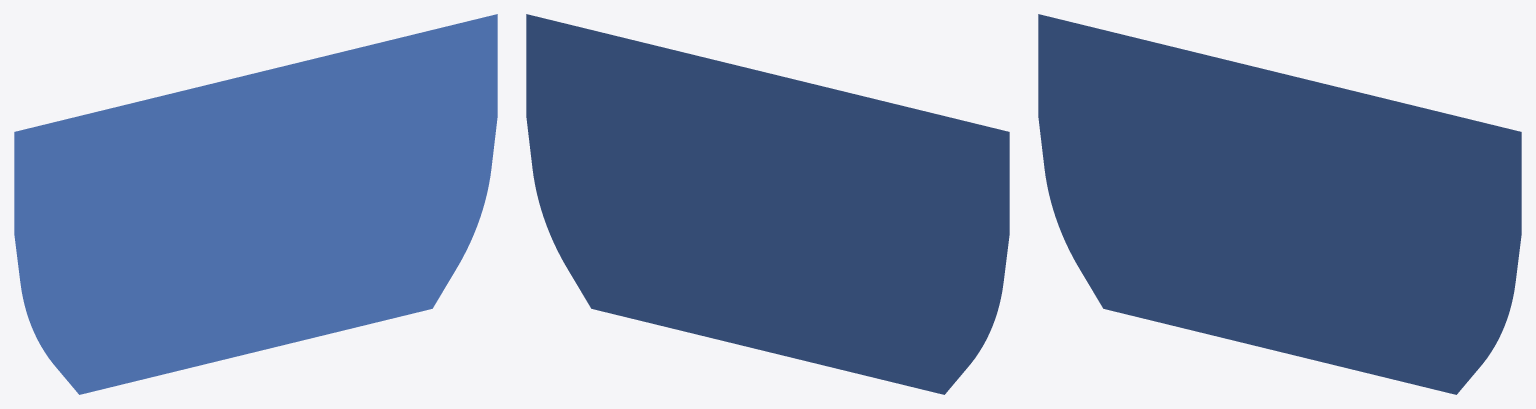
File: original-11.obj
3 views of the same model, side by side, from view 1: azimuth 30°, elevation 25°; view 2: azimuth 150°, elevation 25°; view 3: azimuth 330°, elevation 25° (orthographic).
Visible parts, largest first — view 1: mesh24/mesh24-geometry#mesh24-geometry; view 2: mesh24/mesh24-geometry#mesh24-geometry; view 3: mesh24/mesh24-geometry#mesh24-geometry.
Part boxes in pixels (x1,y1,x2,y2): mesh24/mesh24-geometry#mesh24-geometry: (14,14,497,394); mesh24/mesh24-geometry#mesh24-geometry: (526,14,1009,394); mesh24/mesh24-geometry#mesh24-geometry: (1038,14,1521,394).
Bounding box in the file's own units: 0.6587 × 0.3632 × 0.
